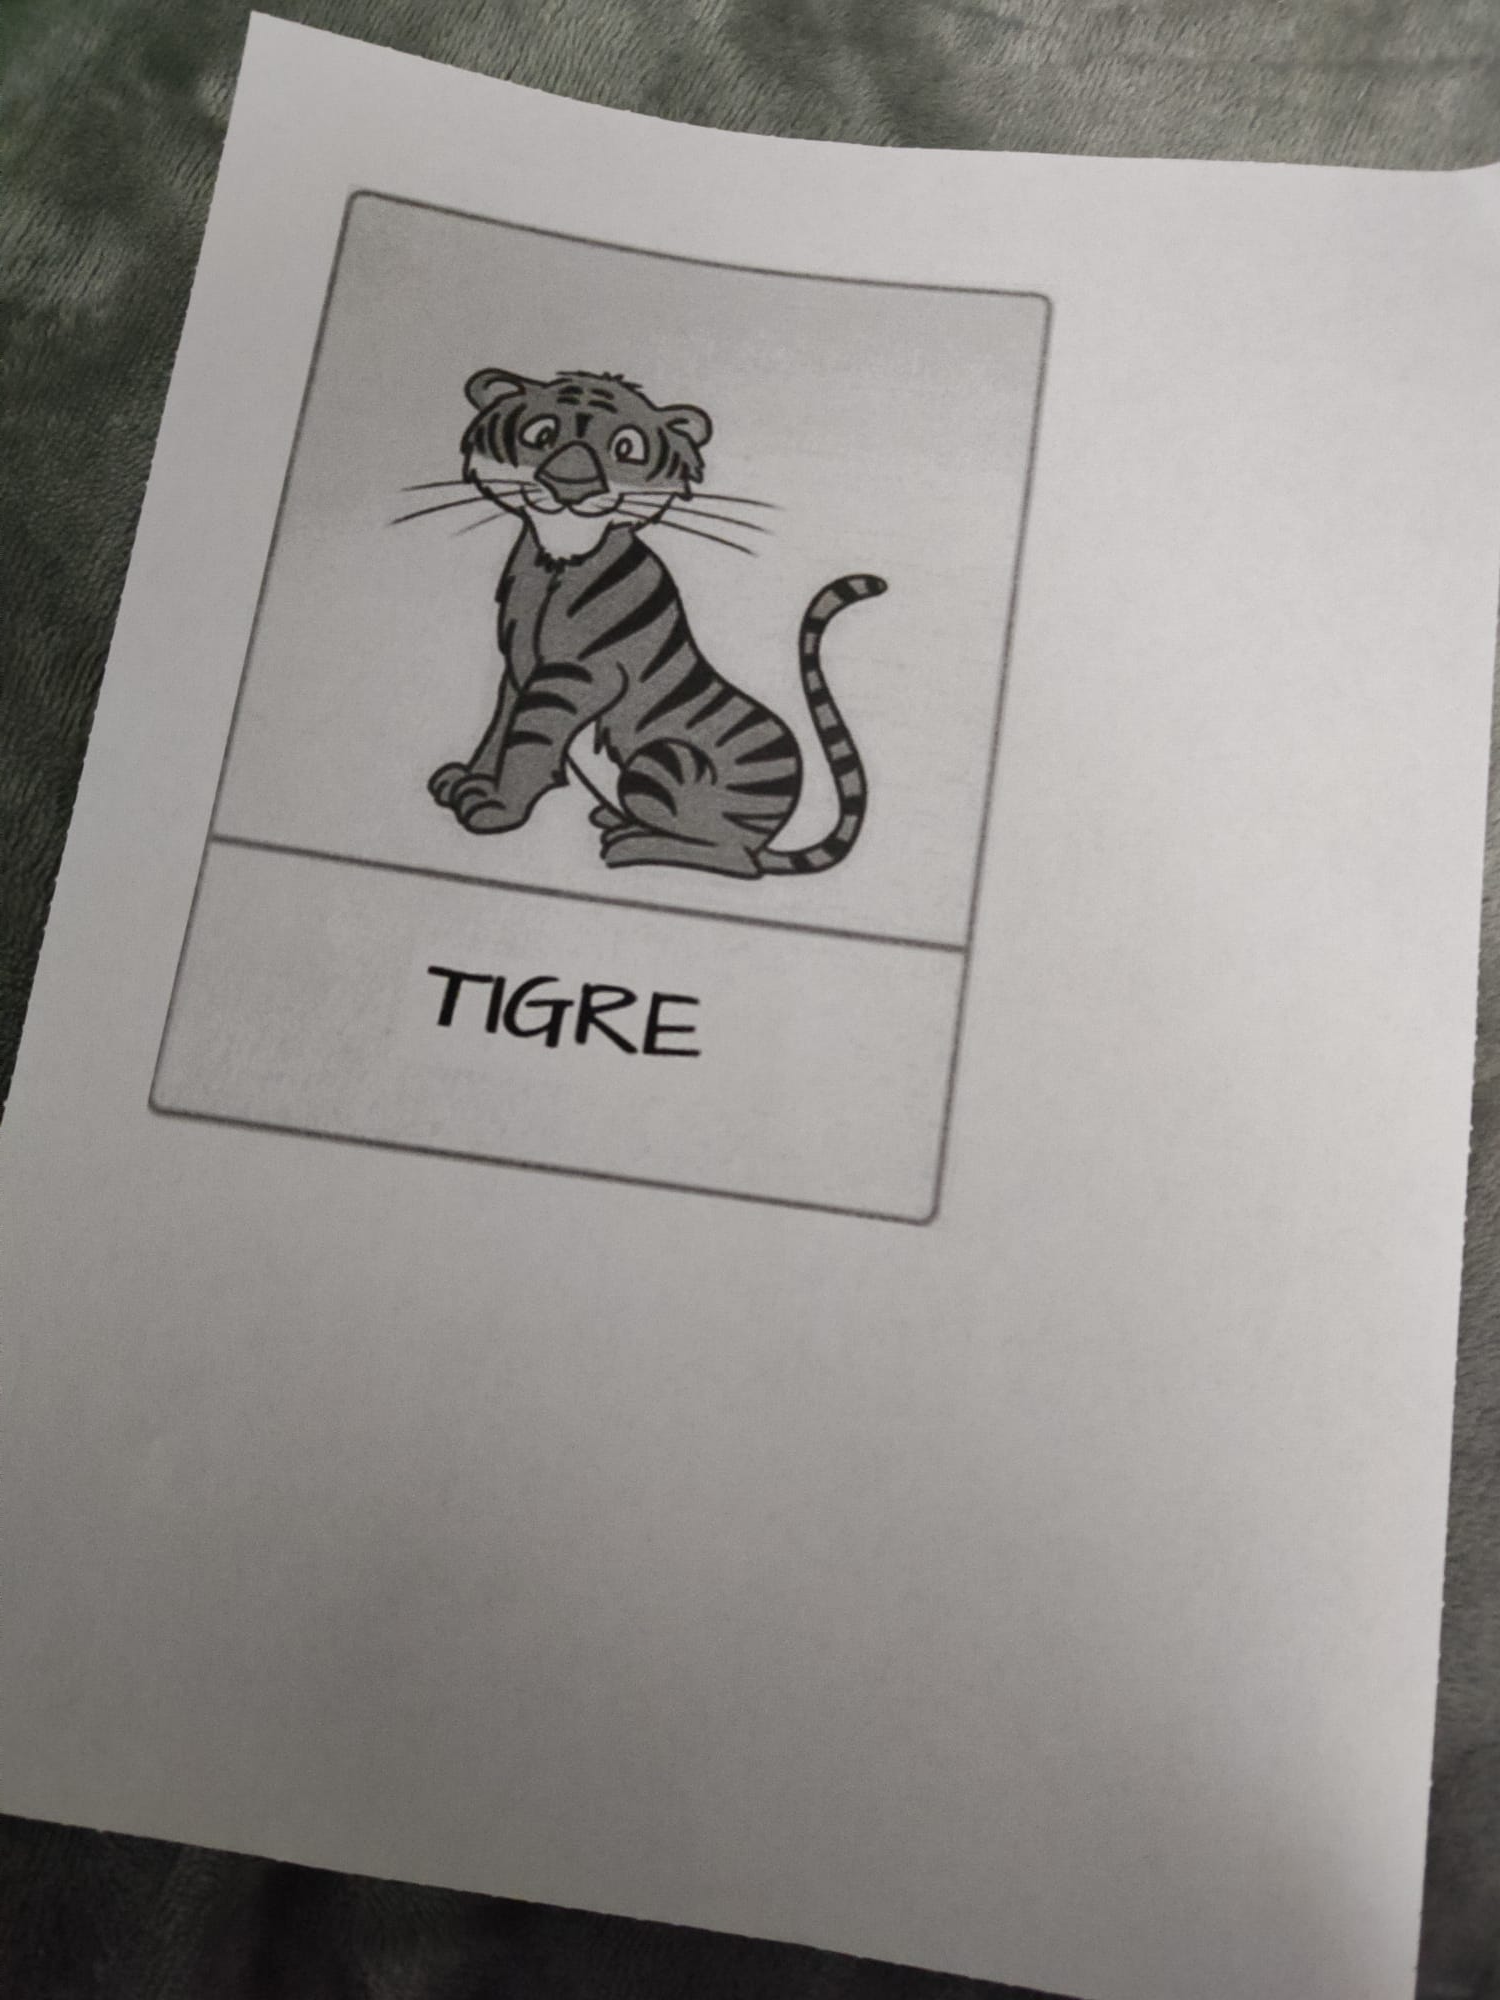tigre: (300, 256, 987, 1201)
